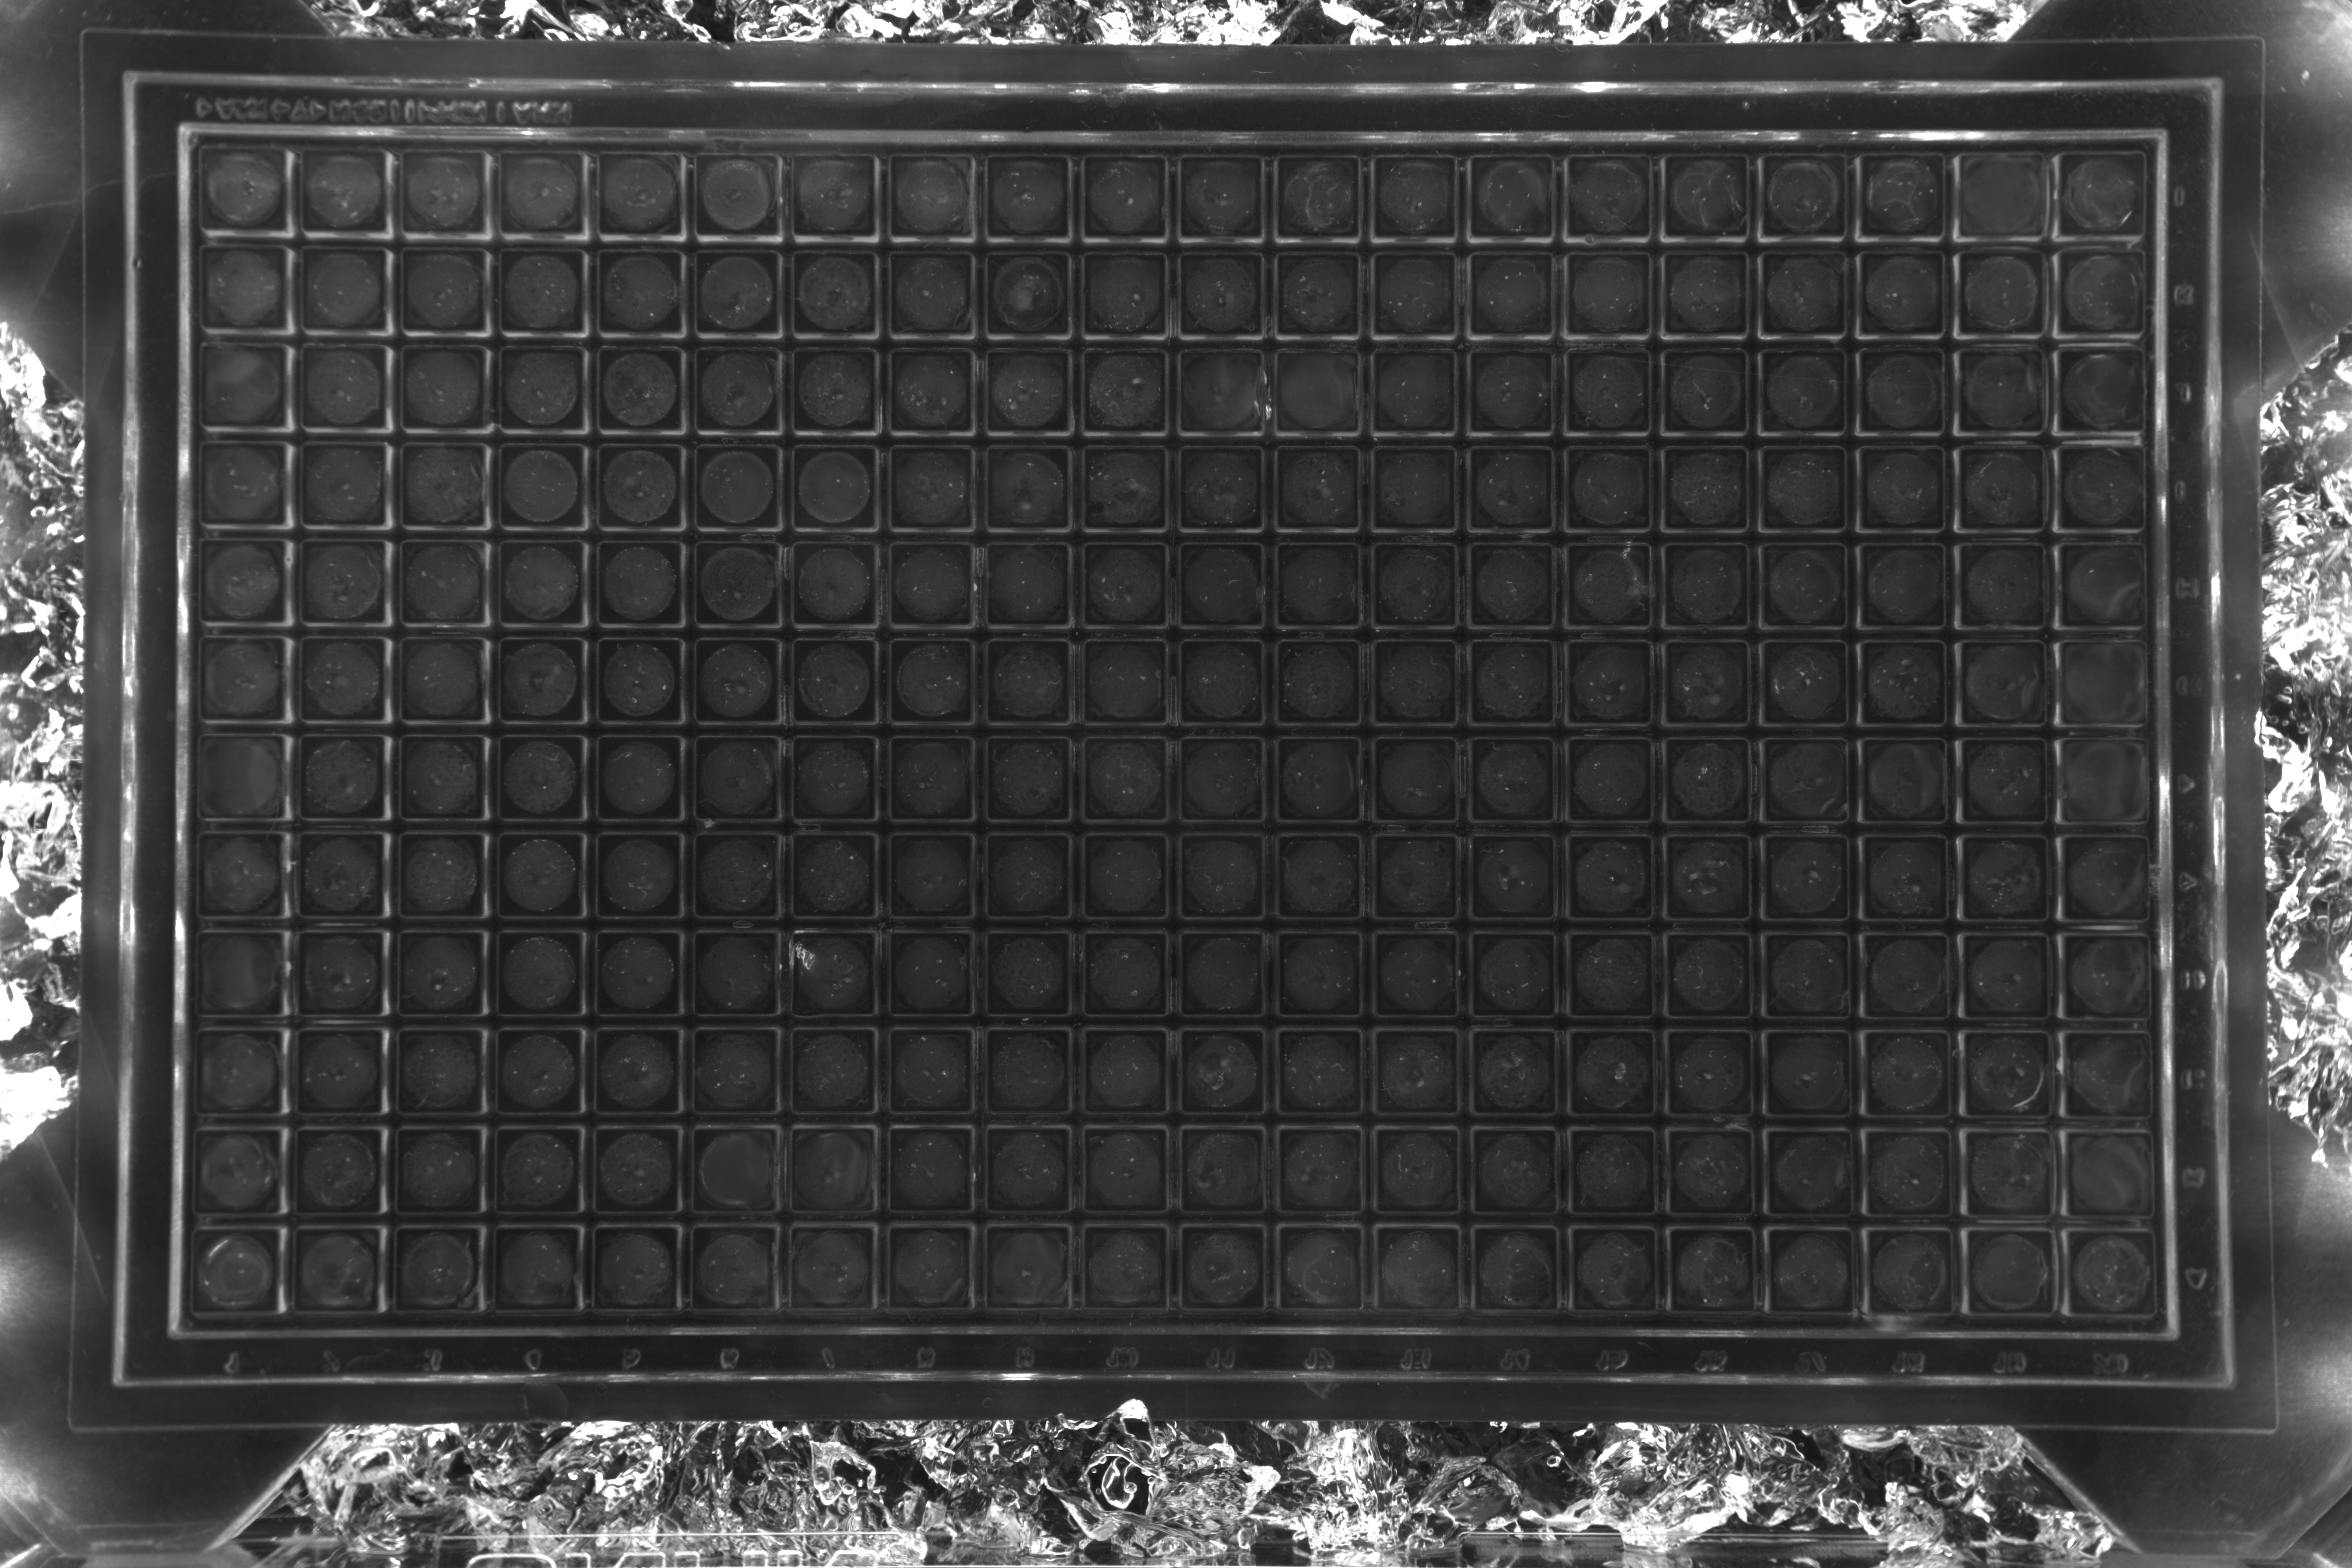WM_well: (2063, 1351, 2152, 1440), (395, 945, 485, 1032), (492, 1043, 581, 1130), (497, 653, 586, 740), (199, 945, 287, 1032), (205, 553, 292, 640), (486, 1340, 574, 1428), (686, 1241, 773, 1328), (789, 752, 877, 840), (887, 269, 975, 357), (982, 1045, 1069, 1132), (983, 464, 1071, 551), (1176, 269, 1263, 357), (1176, 464, 1263, 551), (1176, 754, 1263, 842), (1274, 754, 1361, 842), (1466, 656, 1554, 744), (1470, 1342, 1557, 1430), (1561, 269, 1648, 357), (1661, 366, 1748, 453), (1764, 1150, 1851, 1237), (1958, 658, 2046, 745), (1960, 854, 2047, 941)
